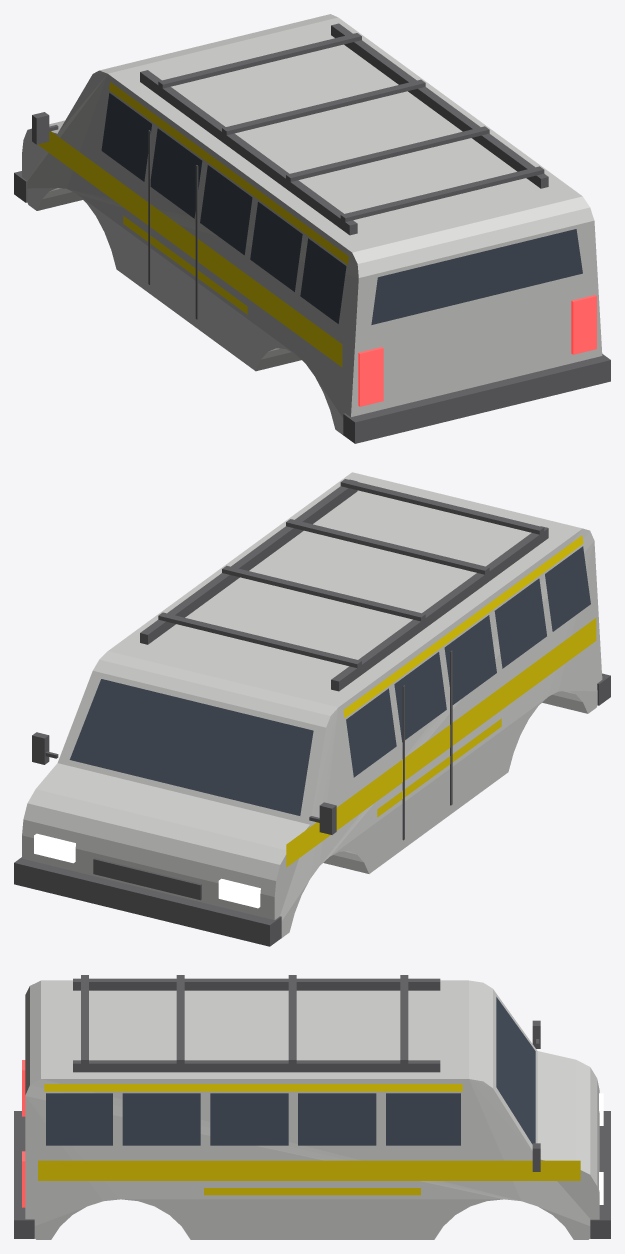
Rendered from matatu.glb.
3 views of the same model, one above another, from view 1: azimuth 30°, elevation 25°; view 2: azimuth 150°, elevation 25°; view 3: azimuth 270°, elevation 25° (orthographic). The views are drawn at different scales.
Visible parts, largest first — view 1: Body, Trim, Glass, Livery, TailLights; view 2: Body, Glass, Trim, Livery, Lights; view 3: Body, Glass, Livery, Trim, TailLights.
Boxes of the visible parts, x1,y1,x2,y2 form: Body: (22, 14, 602, 435); Trim: (14, 23, 610, 443); Glass: (101, 93, 582, 324); Livery: (38, 82, 348, 366); TailLights: (358, 295, 596, 406); Body: (22, 472, 602, 937); Glass: (69, 546, 590, 815); Trim: (14, 479, 610, 946); Livery: (286, 535, 596, 867); Lights: (34, 833, 260, 908); Body: (25, 980, 599, 1239); Glass: (46, 997, 535, 1145); Livery: (38, 1084, 580, 1195); Trim: (14, 975, 610, 1238); TailLights: (22, 1060, 25, 1207).
Size of the model in its own units: 9.5 by 5.82 by 18.7.
